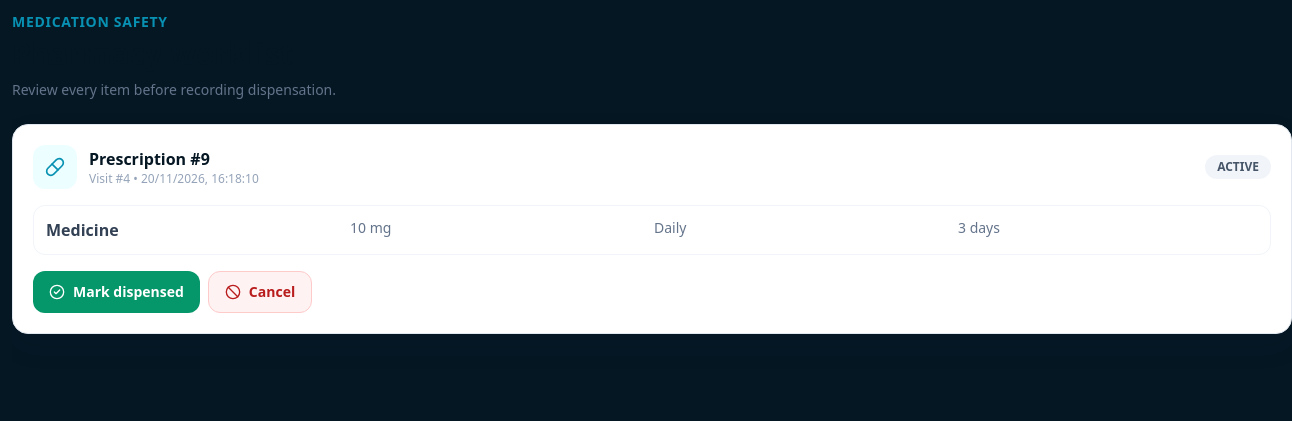
PharmacyPage cancellation › cancels an active prescription and reloads the worklist
Click the button "Cancel" at (260, 292), box top-left (208, 271), bottom-right (312, 313)
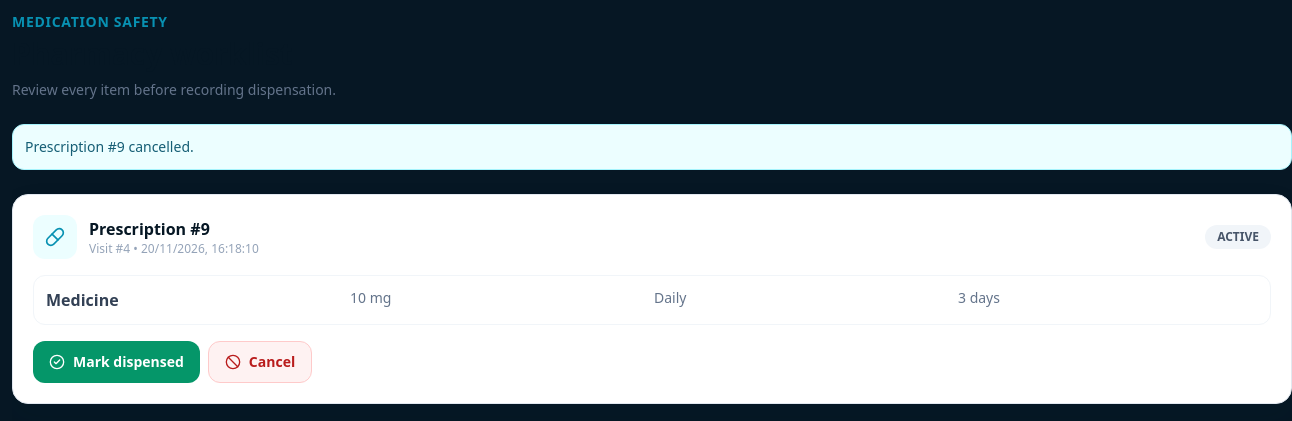
Expected: the text "Prescription #9 cancelled." is shown, top-left (12, 124), bottom-right (1291, 170)
